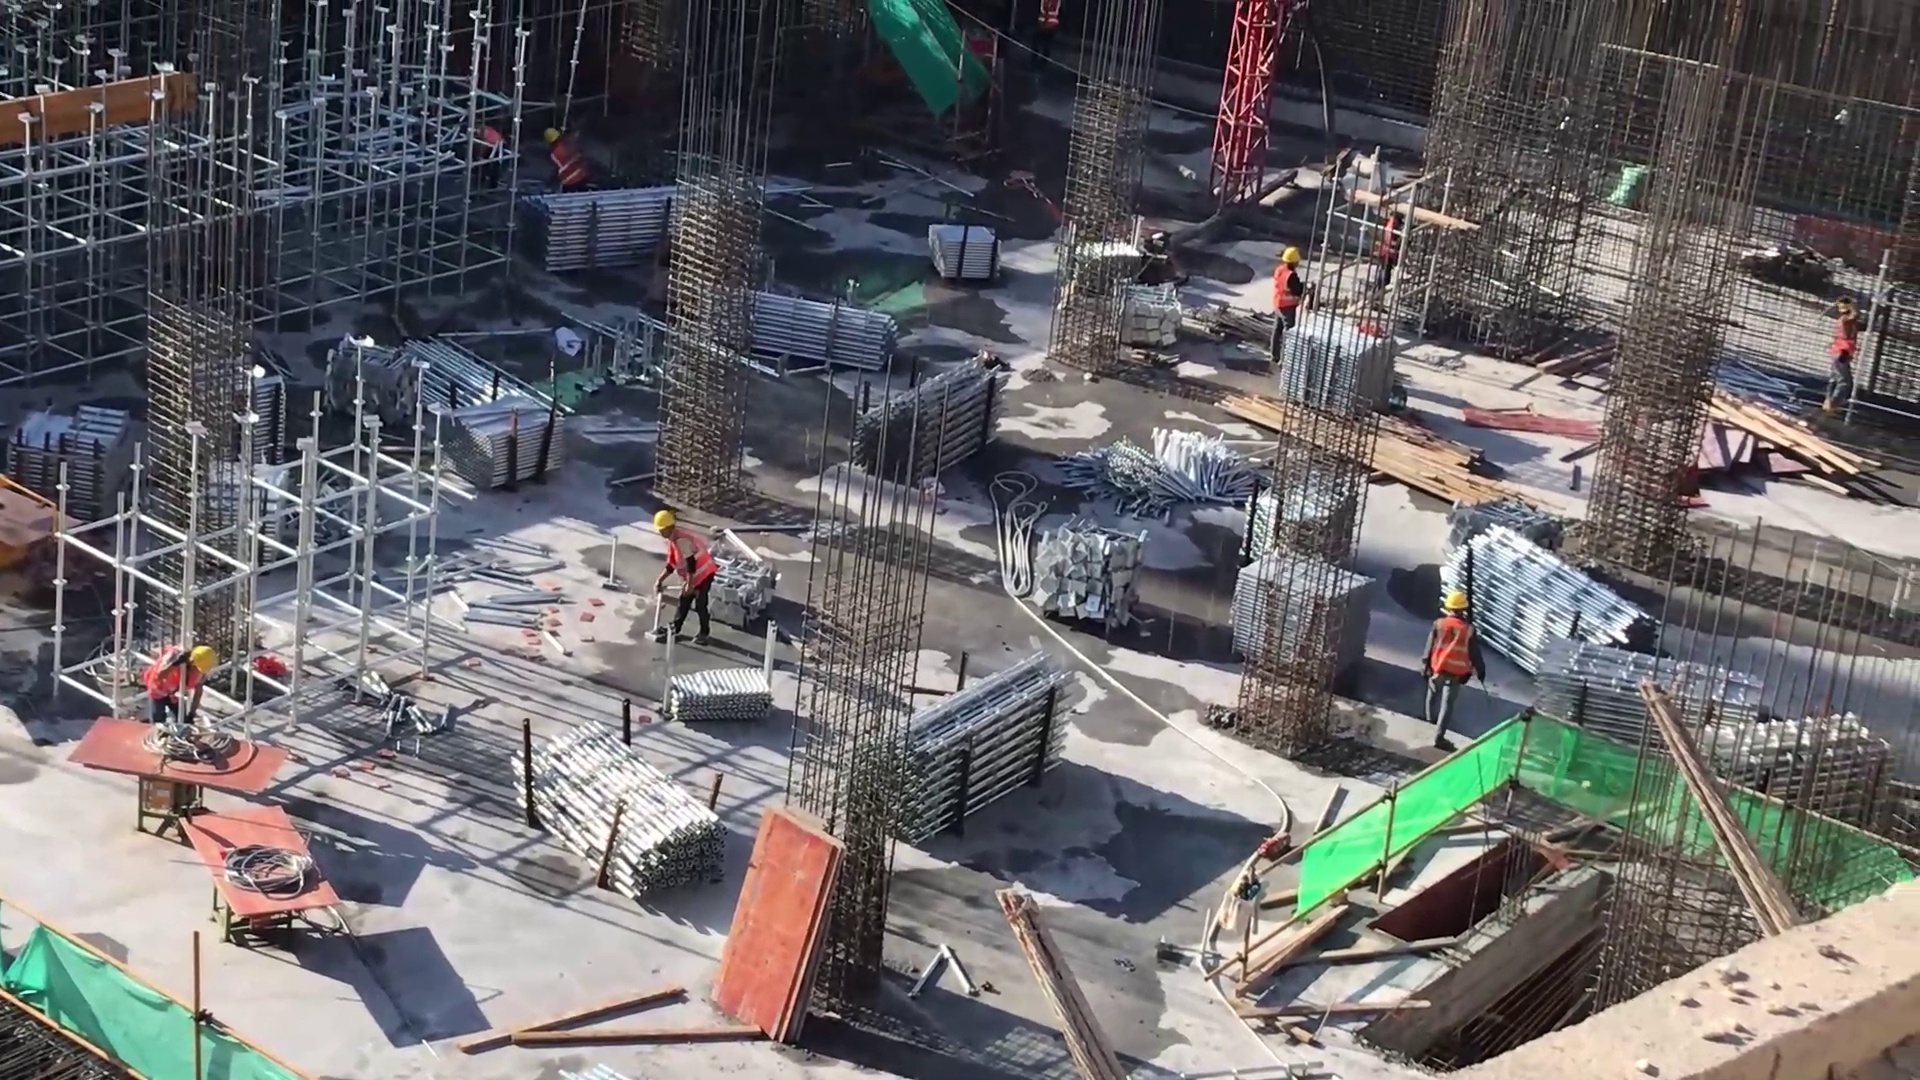board: (705, 804, 861, 1048)
cutter: (163, 781, 341, 969), (75, 714, 283, 842)
helmet: (1439, 579, 1475, 627), (185, 639, 220, 687), (647, 503, 684, 545), (1274, 242, 1303, 279), (542, 121, 569, 156)
person: (1425, 584, 1487, 751), (659, 527, 729, 656), (147, 640, 215, 731), (1266, 234, 1313, 351), (537, 124, 594, 219), (1827, 297, 1862, 438), (463, 113, 508, 197), (1029, 1, 1075, 70)
scaffold: (869, 638, 1088, 846), (1437, 524, 1665, 694), (1691, 713, 1912, 882), (515, 730, 722, 910), (1530, 637, 1769, 791), (858, 345, 1012, 507), (1, 413, 150, 526), (708, 288, 902, 374), (443, 384, 584, 496), (393, 341, 551, 426), (543, 190, 677, 268), (659, 664, 775, 723)
vest: (658, 527, 720, 600), (1427, 614, 1482, 686), (145, 648, 203, 710), (546, 140, 591, 196), (1270, 261, 1306, 317), (1833, 314, 1859, 374), (1034, 1, 1066, 36)
